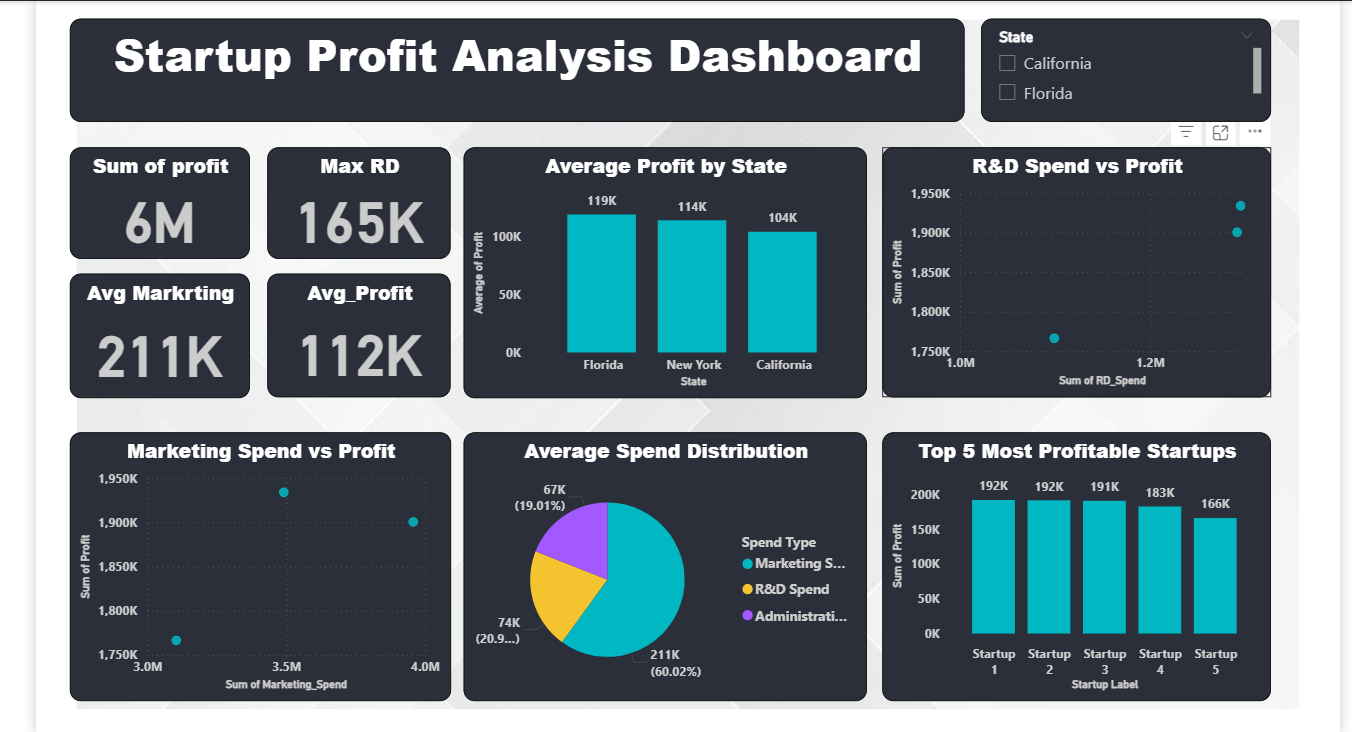

The dashboard page shown, as its layout file describes it:
{"tool":"powerbi","page":{"name":" Final_Dashboard","canvas":[1280,720],"ordinal":0},"visuals":[{"type":"clusteredColumnChart","title":"Average Profit by State","fields":{"Category":["project_profit_analysis startup.State"],"Y":["Avg(project_profit_analysis startup.Profit)"]},"box":[419.6,143.6,396.3,246.6],"z":0},{"type":"scatterChart","title":"R&D Spend vs Profit","fields":{"X":["Sum(project_profit_analysis startup.RD_Spend)"],"Y":["Sum(project_profit_analysis startup.Profit)"],"Category":["project_profit_analysis startup.State"]},"box":[830.7,143.6,381.6,245.4],"z":1000},{"type":"scatterChart","title":"Marketing Spend vs Profit","fields":{"Y":["Sum(project_profit_analysis startup.Profit)"],"Category":["project_profit_analysis startup.State"],"X":["Sum(project_profit_analysis startup.Marketing_Spend)"]},"box":[33.1,423.3,374.2,263.8],"z":2000},{"type":"pieChart","title":"Average Spend Distribution","fields":{"Y":["Sum(Spend_Avg_Table.Value)"],"Category":["Spend_Avg_Table.Spend Type"]},"box":[419.6,423.3,396.3,263.8],"z":3000},{"type":"clusteredColumnChart","title":"Top 5 Most Profitable Startups","fields":{"Y":["Sum(project_profit_analysis startup.Profit)"],"Category":["project_profit_analysis startup.Startup Label"]},"box":[830.7,423.3,381.6,263.8],"z":4000},{"type":"slicer","fields":{"Values":["project_profit_analysis startup.State"]},"box":[927.6,17.2,284.7,101.8],"z":5000},{"type":"card","title":"Avg_Profit","fields":{"Values":["project_profit_analysis startup.Avg_Profit"]},"box":[227,267.5,180.4,121.5],"z":6000},{"type":"card","title":"Avg Markrting","fields":{"Values":["project_profit_analysis startup.Avg_Marketing"]},"box":[33.1,267.5,176.7,122.7],"z":7000},{"type":"card","title":"Sum of profit","fields":{"Values":["Sum(project_profit_analysis startup.Profit)"]},"box":[33.1,143.6,176.7,109.2],"z":8000},{"type":"card","title":"Max RD","fields":{"Values":["project_profit_analysis startup.Max_RD"]},"box":[227,143.6,180.4,109.2],"z":9000},{"type":"textbox","title":"Startup Profit Analysis Dashboard","box":[33.1,17.2,878.5,101.8],"z":10000}]}

Visuals, with their boxes in screenshot pixels (x1, y1, x2, y2):
"Average Profit by State" clusteredColumnChart: [460,144,857,391]
"R&D Spend vs Profit" scatterChart: [872,144,1255,390]
"Marketing Spend vs Profit" scatterChart: [72,425,447,689]
"Average Spend Distribution" pieChart: [460,425,857,689]
"Top 5 Most Profitable Startups" clusteredColumnChart: [872,425,1255,689]
slicer - project_profit_analysis startup.State: [969,17,1255,119]
"Avg_Profit" card: [266,268,447,390]
"Avg Markrting" card: [72,268,249,391]
"Sum of profit" card: [72,144,249,254]
"Max RD" card: [266,144,447,254]
"Startup Profit Analysis Dashboard" textbox: [72,17,953,119]
